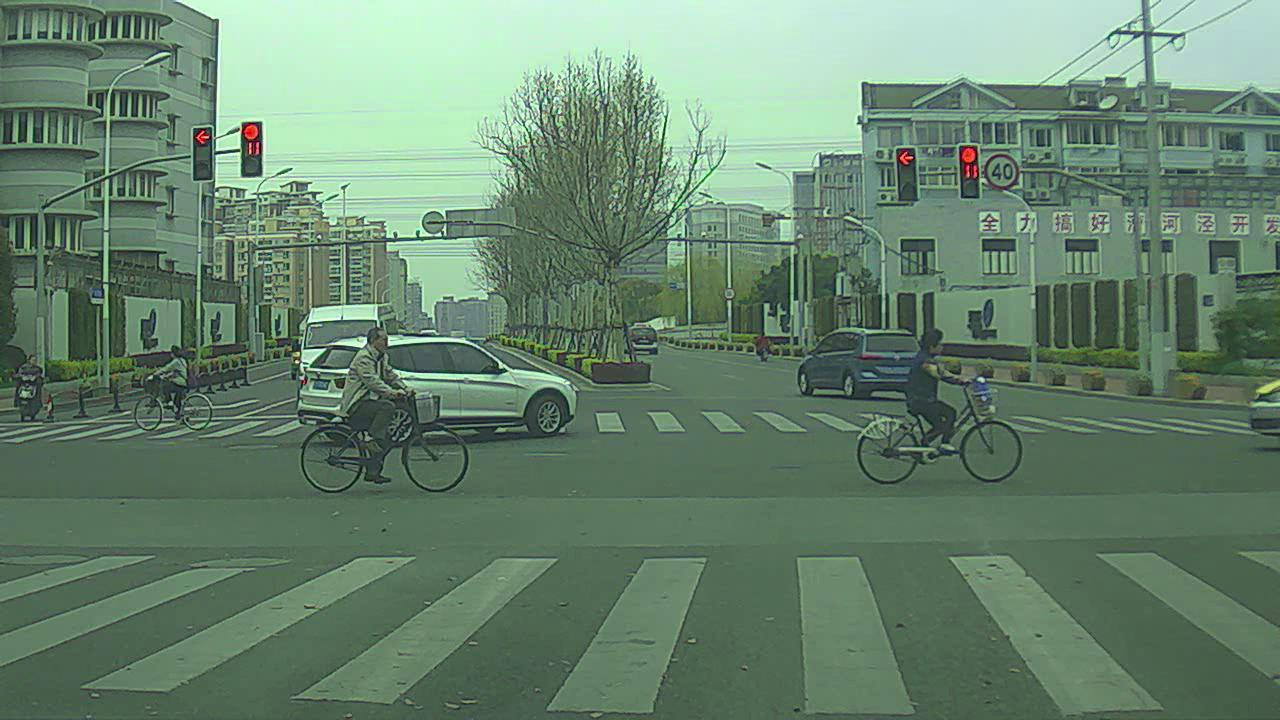traffic_light: (955, 141, 986, 202), (239, 118, 267, 183), (190, 124, 218, 184), (895, 144, 921, 203)
